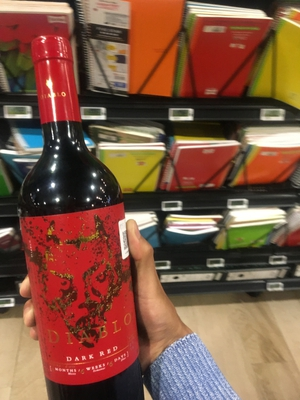diablo dark red: (14, 43, 171, 400)
